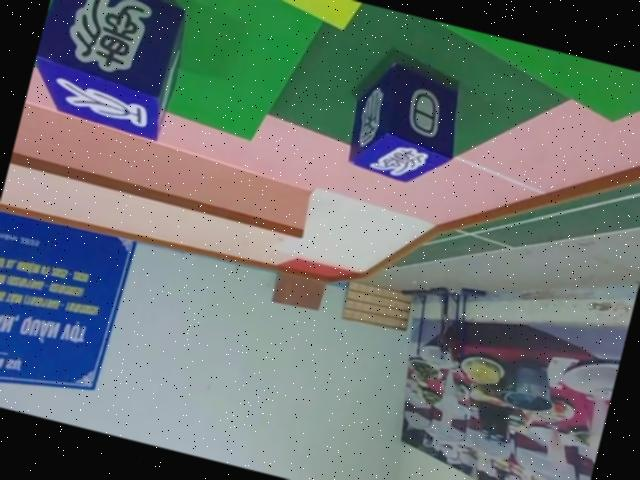R2 Fake Blue: (23, 0, 198, 141), (341, 52, 472, 190)
